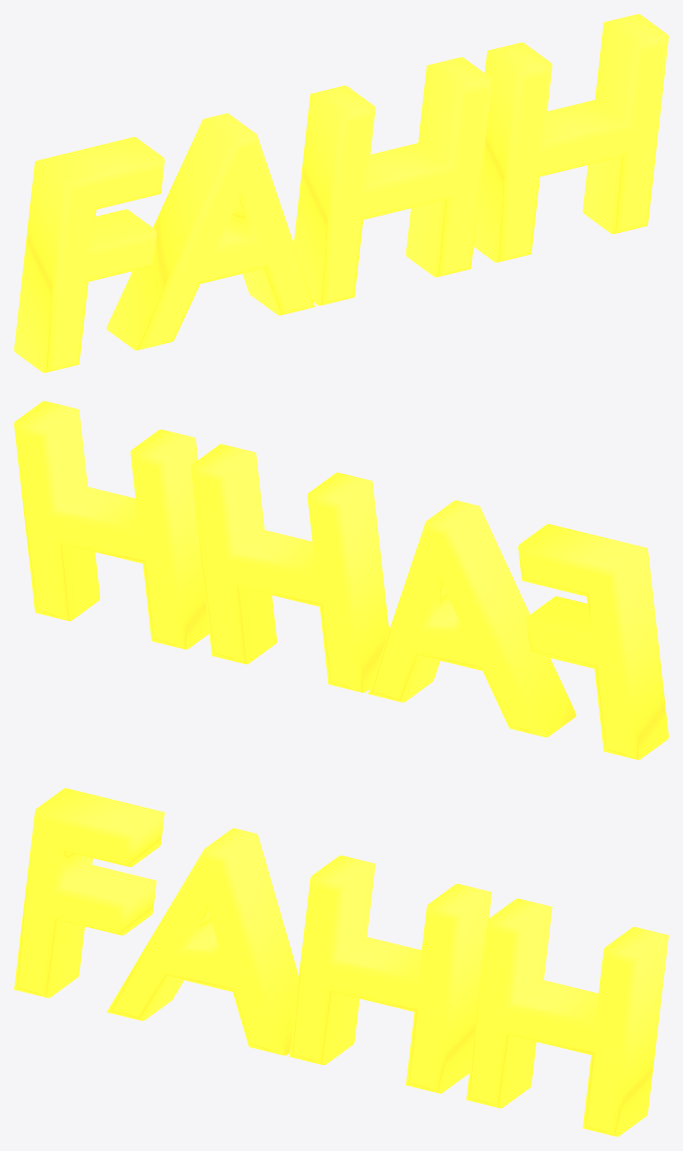
The model's file is fahh_text.glb.
3 renders of one model, top to bottom at view 1: azimuth 30°, elevation 25°; view 2: azimuth 150°, elevation 25°; view 3: azimuth 330°, elevation 25°, orthographic.
Parts seen in each view (by area): view 1: Fahh_Word; view 2: Fahh_Word; view 3: Fahh_Word.
Part boxes in pixels (<box>): Fahh_Word: <box>14,14,668,372</box>; Fahh_Word: <box>14,401,668,759</box>; Fahh_Word: <box>14,788,668,1136</box>.
Size of the model in its own units: 1.29 by 0.367 by 0.124.
